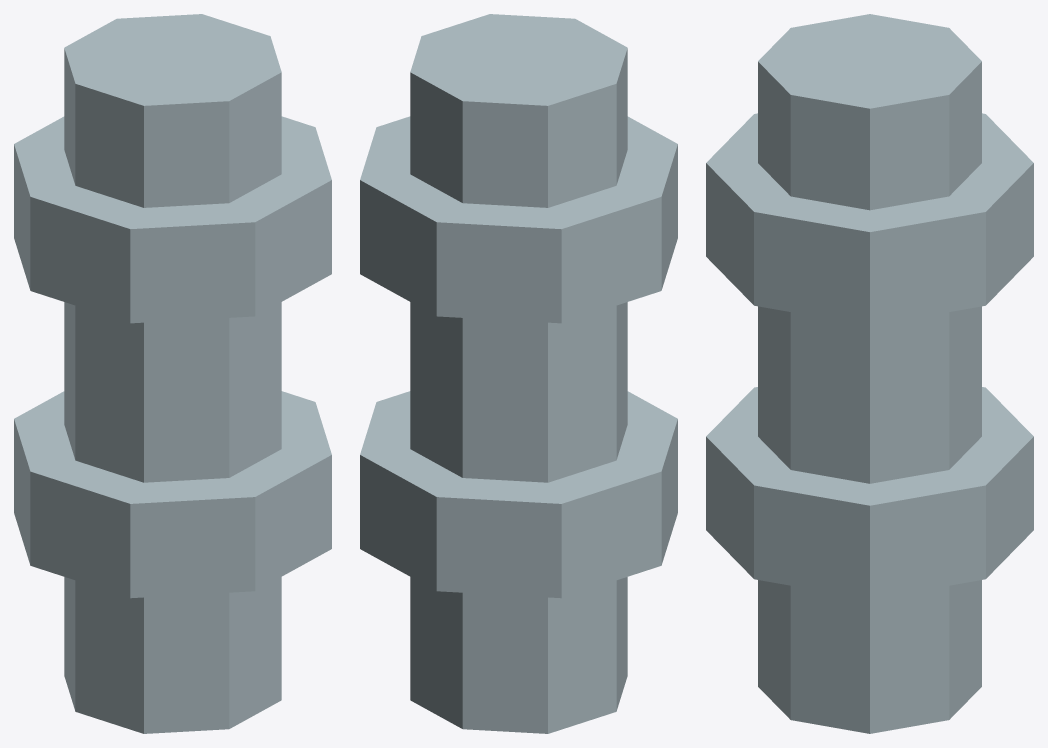
Rendered from stepped-drive-shaft.glb.
3 views of the same model, side by side, from view 1: azimuth 30°, elevation 25°; view 2: azimuth 150°, elevation 25°; view 3: azimuth 270°, elevation 25° (orthographic).
Visible parts, largest first — view 1: steel; view 2: steel; view 3: steel.
Part boxes in pixels (x1,y1,x2,y2): steel: (14, 14, 331, 733); steel: (360, 14, 677, 733); steel: (706, 14, 1033, 733).
Bounding box in the file's own units: 0.38 × 0.8 × 0.38.
